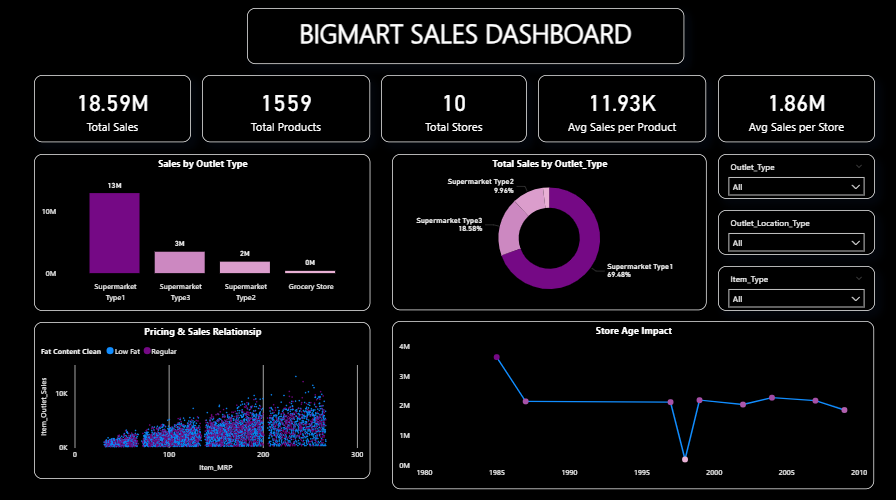

This screenshot's page, from the dashboard's own definition file:
{"tool":"powerbi","page":{"name":"Sales Analysis","canvas":[1280,720],"ordinal":1},"visuals":[{"type":"card","fields":{"Values":["bigmart.Total Sales"]},"box":[48,112,224,96],"z":0},{"type":"card","fields":{"Values":["bigmart.Total Products"]},"box":[288,112,240,96],"z":1000},{"type":"card","fields":{"Values":["bigmart.Total Stores"]},"box":[544,112,208,96],"z":2000},{"type":"card","fields":{"Values":["bigmart.Avg Sales per Product"]},"box":[768,112,240,96],"z":3000},{"type":"card","fields":{"Values":["bigmart.Avg Sales per Store"]},"box":[1024,112,224,96],"z":4000},{"type":"clusteredColumnChart","title":"Sales by Outlet Type","fields":{"Category":["bigmart.Outlet_Type"],"Y":["bigmart.Total Sales"]},"box":[48,224,480,224],"z":5000},{"type":"lineChart","title":"Store Age Impact","fields":{"Category":["bigmart.Outlet_Establishment_Year"],"Y":["bigmart.Total Sales"]},"box":[559.6,463,688.3,239.6],"z":6000},{"type":"scatterChart","title":"Pricing & Sales Relationsip","fields":{"Series":["bigmart.Fat Content Clean"],"X":["bigmart.Item_MRP"],"Y":["bigmart.Item_Outlet_Sales"]},"box":[48,464,480,224],"z":8000},{"type":"donutChart","fields":{"Category":["bigmart.Outlet_Type"],"Y":["bigmart.Total Sales"]},"box":[559.6,223.5,448.7,223.5],"z":9000},{"type":"slicer","fields":{"Values":["bigmart.Outlet_Type"]},"box":[1024,224,224,64],"z":10000},{"type":"slicer","fields":{"Values":["bigmart.Outlet_Location_Type"]},"box":[1024,304,224,64],"z":11000},{"type":"slicer","fields":{"Values":["bigmart.Item_Type"]},"box":[1024,384,224,64],"z":12000},{"type":"textbox","box":[352,16,624,80],"z":13000}]}

Visuals, with their boxes in screenshot pixels (x1, y1, x2, y2), scaled from the page's 1280x720 canvas onto the 896x500 screenshot:
card - bigmart.Total Sales: (34,78,190,144)
card - bigmart.Total Products: (202,78,370,144)
card - bigmart.Total Stores: (381,78,526,144)
card - bigmart.Avg Sales per Product: (538,78,706,144)
card - bigmart.Avg Sales per Store: (717,78,874,144)
"Sales by Outlet Type" clusteredColumnChart: (34,156,370,311)
"Store Age Impact" lineChart: (392,322,874,488)
"Pricing & Sales Relationsip" scatterChart: (34,322,370,478)
donutChart - bigmart.Outlet_Type x bigmart.Total Sales: (392,155,706,310)
slicer - bigmart.Outlet_Type: (717,156,874,200)
slicer - bigmart.Outlet_Location_Type: (717,211,874,256)
slicer - bigmart.Item_Type: (717,267,874,311)
textbox: (246,11,683,67)
